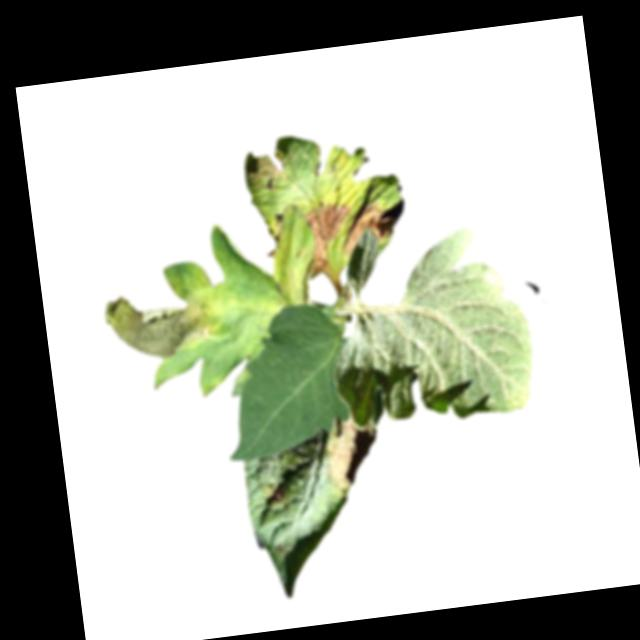Late_blight: (102, 282, 223, 367), (262, 199, 358, 284), (323, 418, 386, 499), (336, 201, 396, 256), (267, 483, 290, 506)
healthy: (318, 221, 539, 433), (210, 296, 358, 466)
